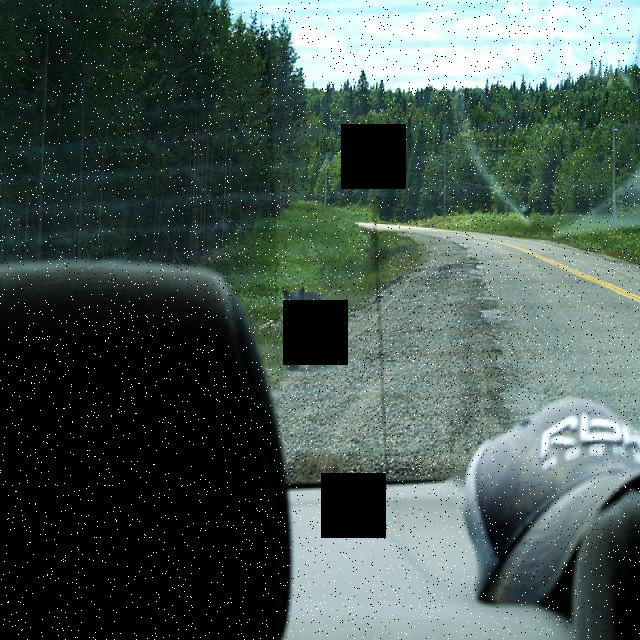Bear: (279, 281, 331, 364)
